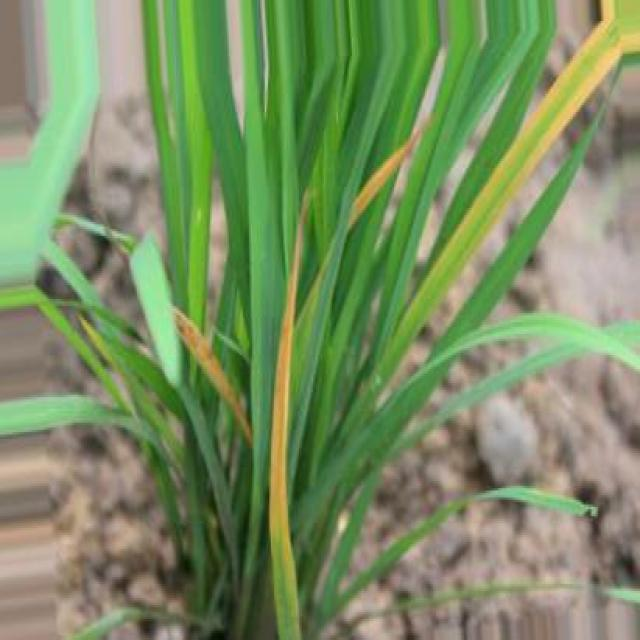Rice Tungro: (269, 191, 307, 638), (174, 308, 251, 445), (352, 134, 418, 228)
